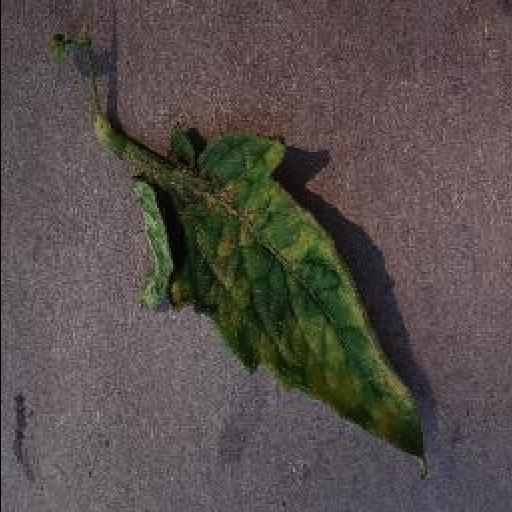disease_tomato: (130, 132, 434, 480)
